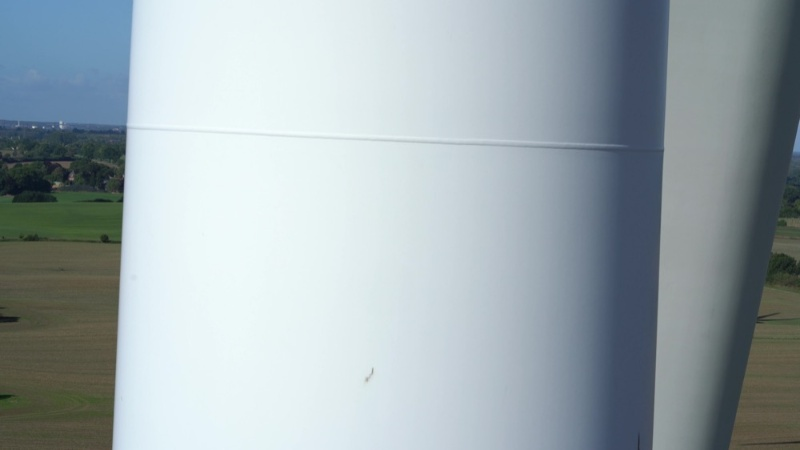weldseam: (126, 116, 665, 160)
